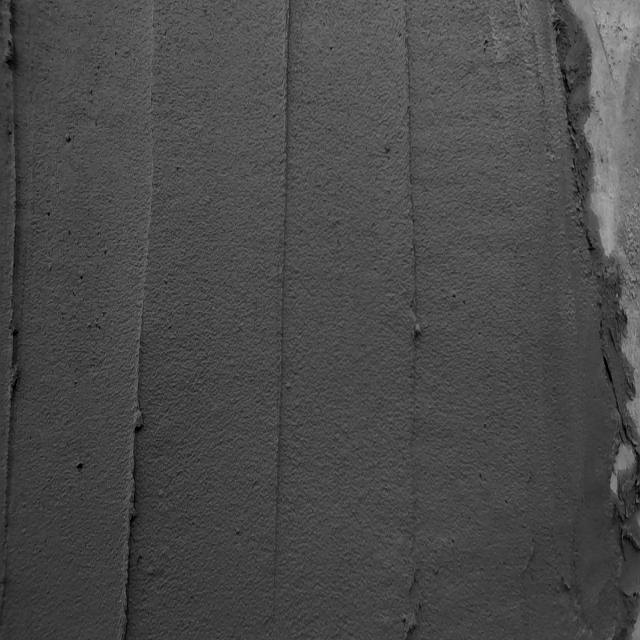trowels marks: (401, 14, 425, 640), (115, 294, 153, 640), (276, 12, 298, 575), (5, 10, 23, 514)
